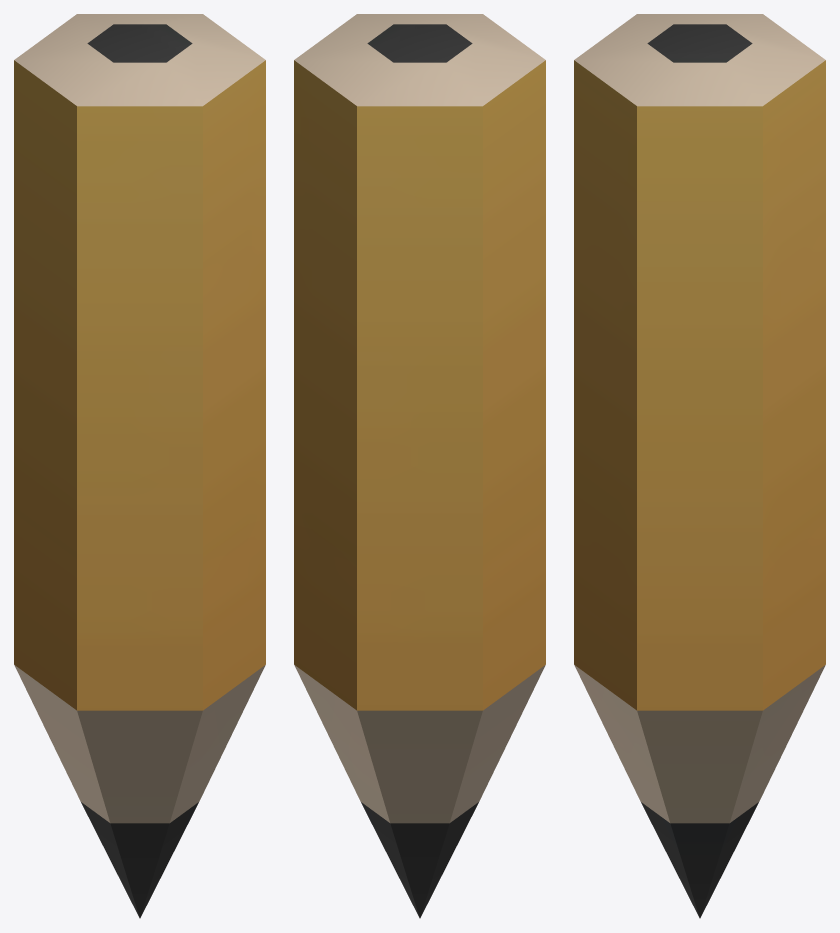
The model's file is pencil_a_short.glb.
3 renders of one model, left to right at view 1: azimuth 30°, elevation 25°; view 2: azimuth 150°, elevation 25°; view 3: azimuth 270°, elevation 25°, orthographic.
Visible parts, largest first — view 1: pencil_A_short; view 2: pencil_A_short; view 3: pencil_A_short.
Boxes of the visible parts, box(x1,y1,x2,y2) form: pencil_A_short: box(14, 14, 265, 918); pencil_A_short: box(294, 14, 545, 918); pencil_A_short: box(574, 14, 825, 918).
Bounding box in the file's own units: 0.0861 × 0.3812 × 0.0994.
1 material, 1 textured.
